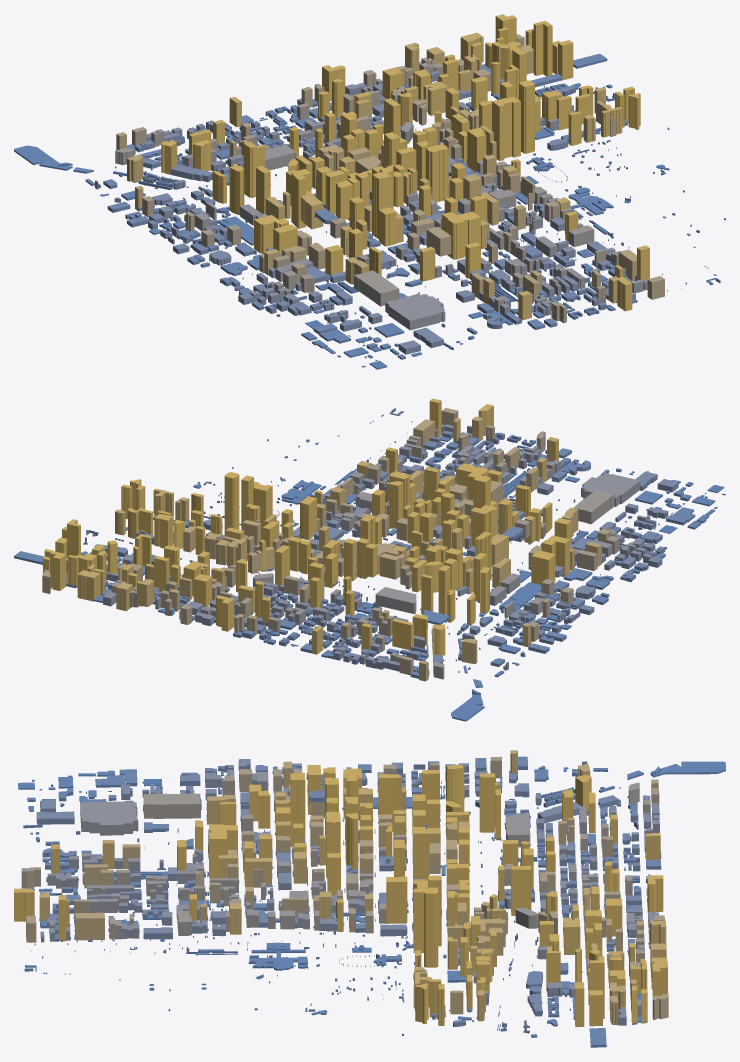
File: buildings.glb
3 renders of one model, top to bottom at view 1: azimuth 30°, elevation 25°; view 2: azimuth 150°, elevation 25°; view 3: azimuth 270°, elevation 25°, orthographic. The views are drawn at different scales.
Visible parts, largest first — view 1: buildings; view 2: buildings; view 3: buildings.
Boxes of the visible parts, bbox=[...] form: buildings: bbox=[14, 14, 725, 369]; buildings: bbox=[14, 398, 725, 721]; buildings: bbox=[14, 750, 725, 1047].
Size of the model in its own units: 2840 by 375 by 2960.
